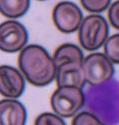L: (85, 78, 118, 124)
